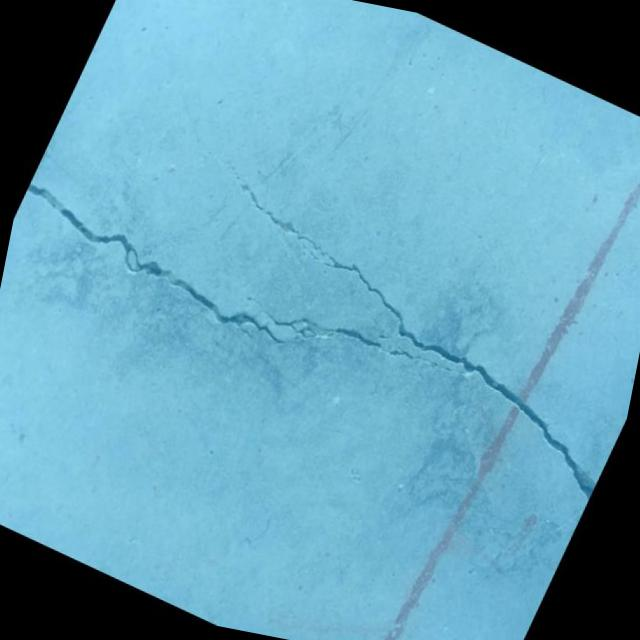crack: (159, 173, 640, 504), (0, 171, 475, 424)
